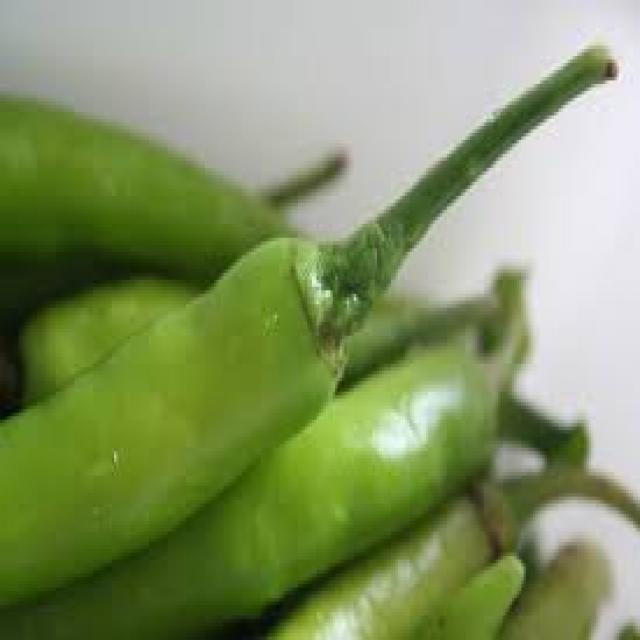green chilli: (0, 51, 615, 608)
